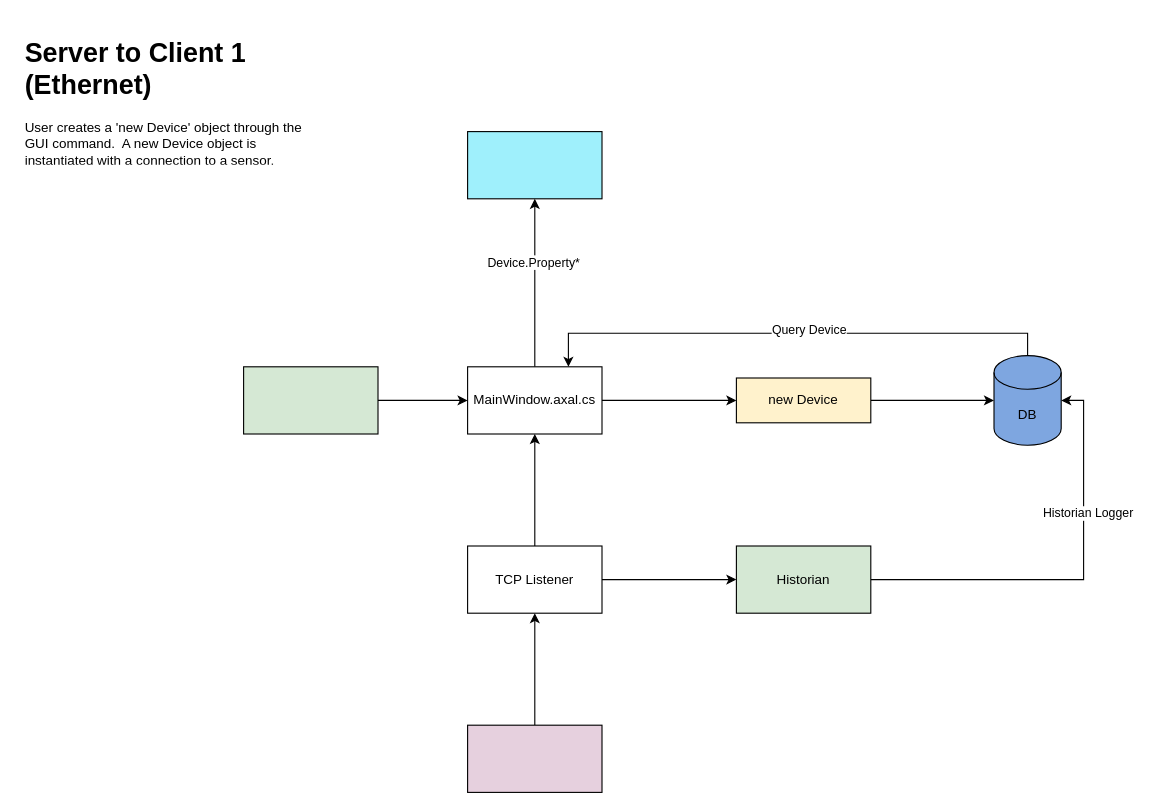
Some shapes in this 1151 by 812 pixel diagram are drawn without their labels. Each missing label, with the box of its shape:
Device: (242, 366, 378, 434)
GUI: (466, 130, 602, 199)
Microcontroller: (466, 724, 602, 792)
